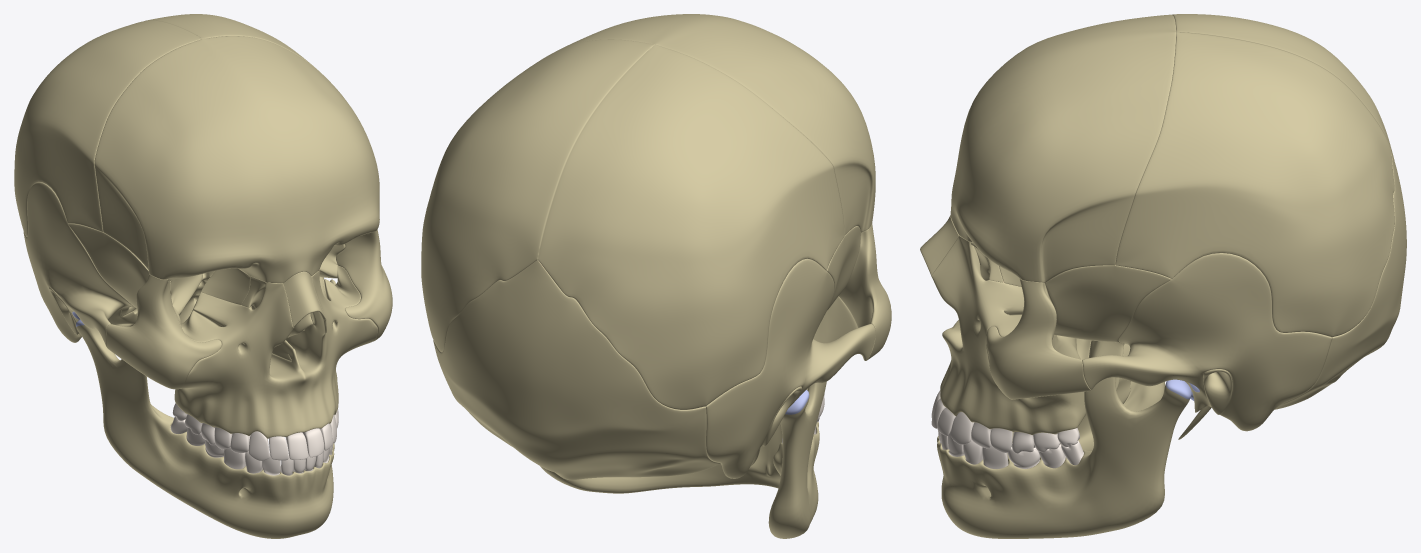
The picture shows the model from 3 angles, left to right: view 1: azimuth 30°, elevation 25°; view 2: azimuth 150°, elevation 25°; view 3: azimuth 270°, elevation 25°; orthographic projection. The views are drawn at different scales.
Visible parts, largest first — view 1: Stirnbein, Oberkiefer, Unterkiefer, Scheitelbein, Jochbein, Schlaefenbein, Keilbein, Nasenbein, Siebbein, Traenenbein; view 2: Scheitelbein, Hinterhauptsbein, Stirnbein, Schlaefenbein, Unterkiefer, Jochbein, Keilbein, Oberkiefer; view 3: Scheitelbein, Stirnbein, Unterkiefer, Schlaefenbein, Oberkiefer, Keilbein, Jochbein, Hinterhauptsbein, Nasenbein.
Part boxes in pixels (x1,y1,x2,y2): Stirnbein: [94, 36, 379, 283]; Oberkiefer: [172, 265, 377, 460]; Unterkiefer: [76, 277, 335, 538]; Scheitelbein: [14, 14, 324, 236]; Jochbein: [106, 229, 392, 389]; Schlaefenbein: [23, 182, 137, 346]; Keilbein: [68, 223, 345, 323]; Nasenbein: [283, 271, 325, 327]; Siebbein: [201, 268, 251, 305]; Traenenbein: [241, 276, 265, 307]; Scheitelbein: [421, 39, 844, 409]; Hinterhauptsbein: [433, 260, 720, 480]; Stirnbein: [557, 14, 875, 235]; Schlaefenbein: [433, 258, 875, 478]; Unterkiefer: [540, 381, 826, 538]; Jochbein: [838, 223, 891, 360]; Keilbein: [826, 226, 860, 310]; Oberkiefer: [806, 296, 857, 422]; Scheitelbein: [1115, 14, 1394, 337]; Stirnbein: [950, 14, 1176, 283]; Unterkiefer: [937, 344, 1191, 538]; Schlaefenbein: [1082, 253, 1331, 439]; Oberkiefer: [931, 235, 1086, 453]; Keilbein: [1045, 265, 1171, 390]; Jochbein: [986, 279, 1090, 399]; Hinterhauptsbein: [1190, 152, 1406, 409]; Nasenbein: [920, 215, 959, 275].
Size of the model in its own units: 0.2636 by 0.3893 by 0.3527.
